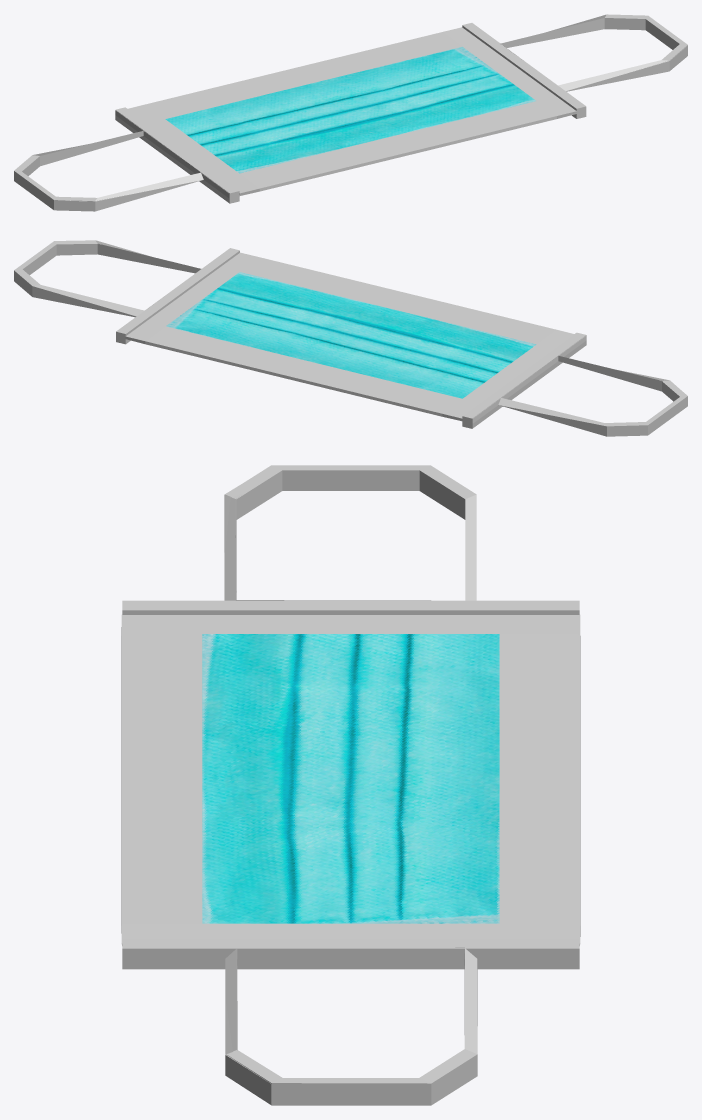
Rendered from Mask.fbx.
3 renders of one model, top to bottom at view 1: azimuth 30°, elevation 25°; view 2: azimuth 150°, elevation 25°; view 3: azimuth 270°, elevation 25°, orthographic. The views are drawn at different scales.
Visible parts, largest first — view 1: Cube; view 2: Cube; view 3: Cube.
Boxes of the visible parts, x1=… form: Cube: x1=14, y1=14, x2=687, y2=211; Cube: x1=14, y1=240, x2=687, y2=436; Cube: x1=121, y1=465, x2=580, y2=1105.
Bounding box in the file's own units: 1281 × 21.69 × 402.
